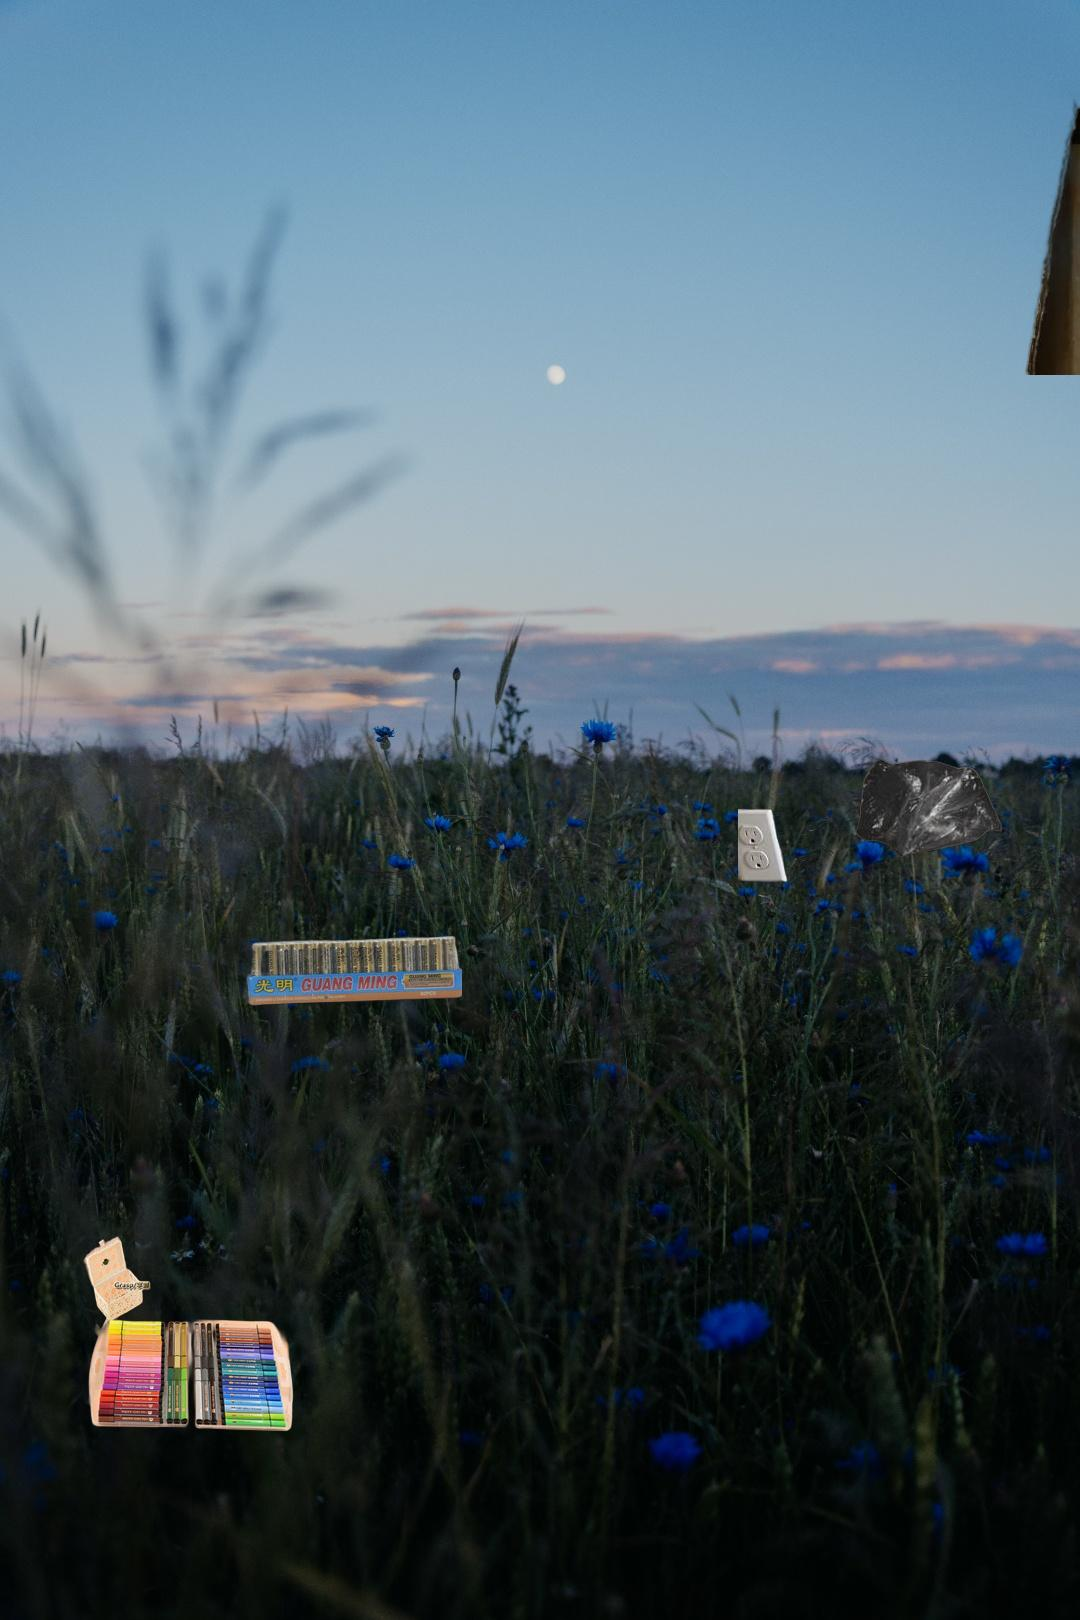battery: (242, 931, 462, 1009)
penholder: (80, 1233, 297, 1434)
plastic-bag: (738, 756, 1005, 885)
trashbox-cardboard: (1023, 80, 1080, 375)
